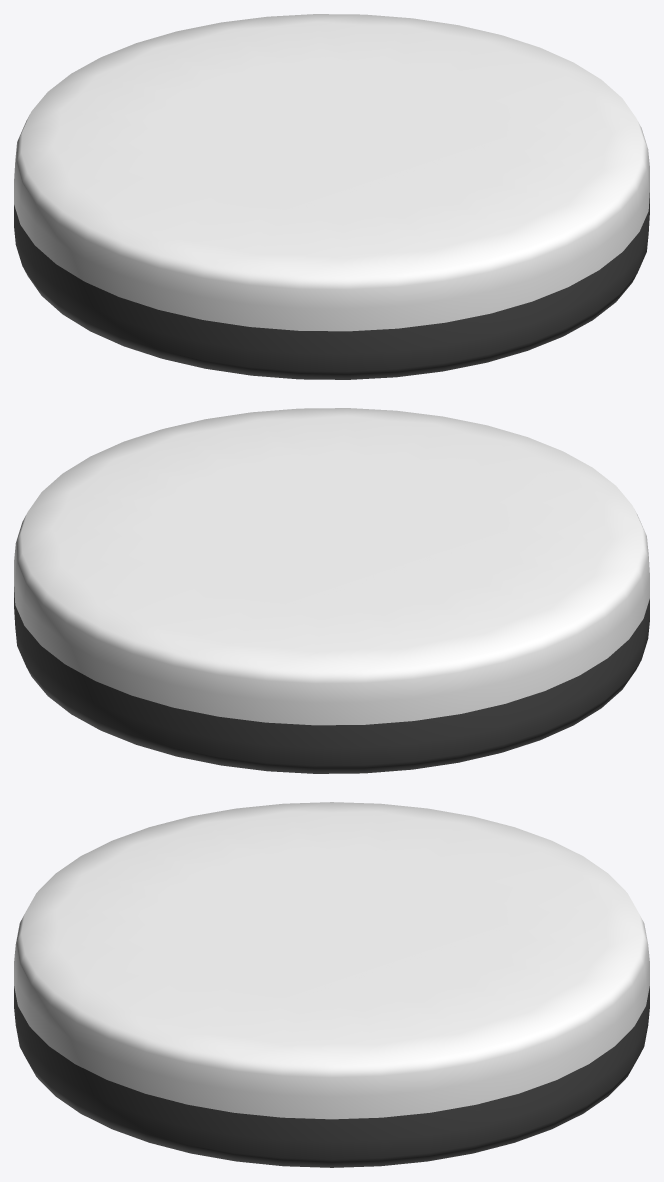
The model's file is 黑白棋棋子.fbx.
3 renders of one model, top to bottom at view 1: azimuth 30°, elevation 25°; view 2: azimuth 150°, elevation 25°; view 3: azimuth 270°, elevation 25°, orthographic.
Visible parts, largest first — view 1: pCylinder1; view 2: pCylinder1; view 3: pCylinder1.
Boxes of the visible parts, x1,y1,x2,y2 form: pCylinder1: (14,14,649,379); pCylinder1: (14,408,649,773); pCylinder1: (14,802,649,1167).
Bounding box in the file's own units: 9.88 × 2 × 9.88.
